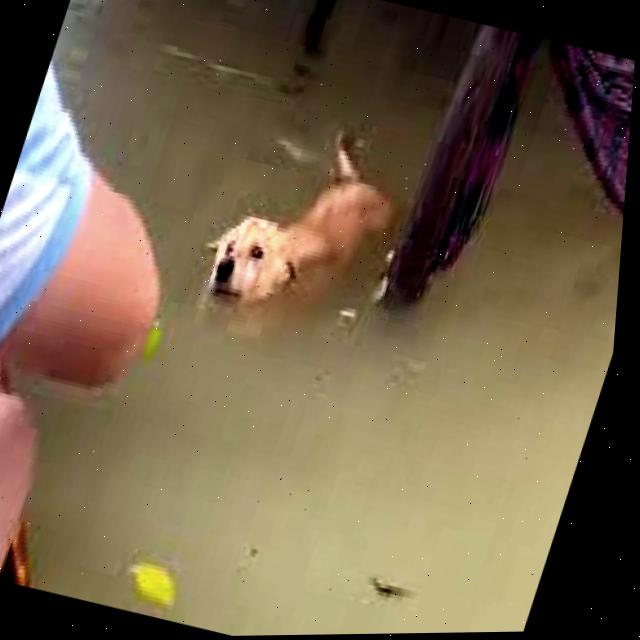dog: (190, 104, 427, 334)
